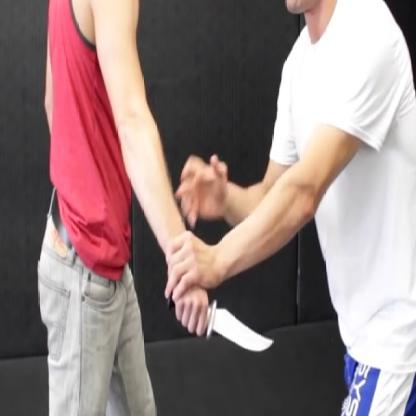knife: (163, 288, 280, 365)
